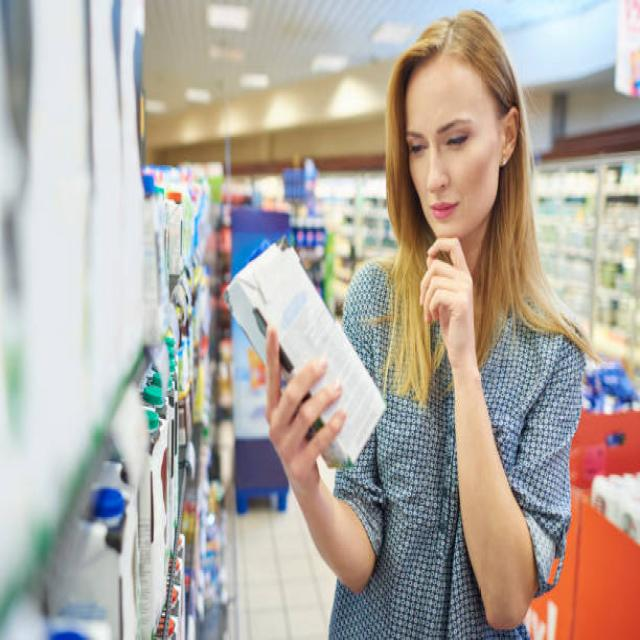article: (226, 237, 385, 466)
hands: (266, 325, 373, 589), (419, 236, 484, 394)
person: (266, 11, 594, 637)
